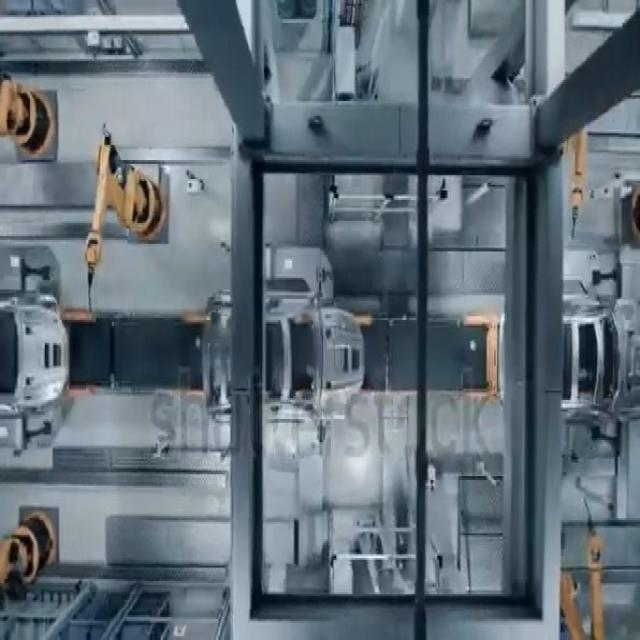auto: (194, 277, 376, 434), (490, 278, 640, 428), (0, 276, 79, 453)
robot: (74, 112, 177, 264)
